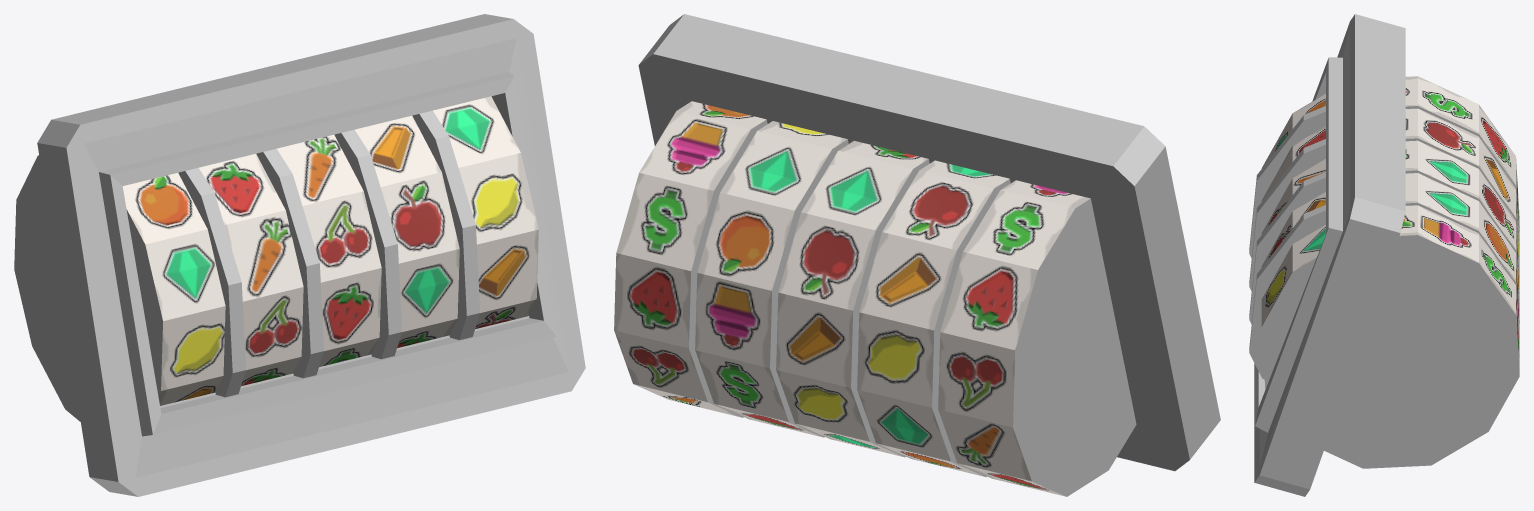
Rendered from SM_Prop_Slot_Machine_01_Cylinder_Insert_01.fbx.
The picture shows the model from 3 angles, left to right: view 1: azimuth 30°, elevation 25°; view 2: azimuth 150°, elevation 25°; view 3: azimuth 270°, elevation 25°; orthographic projection. The views are drawn at different scales.
Visible parts, largest first — view 1: SM_Prop_Slot_Machine_01_Cylinder_Insert_01, SM_Prop_Slot_Machine_01_Cylinder_01, SM_Prop_Slot_Machine_01_Cylinder_05, SM_Prop_Slot_Machine_01_Cylinder_03, SM_Prop_Slot_Machine_01_Cylinder_02, SM_Prop_Slot_Machine_01_Cylinder_04; view 2: SM_Prop_Slot_Machine_01_Cylinder_Insert_01, SM_Prop_Slot_Machine_01_Cylinder_01, SM_Prop_Slot_Machine_01_Cylinder_02, SM_Prop_Slot_Machine_01_Cylinder_03, SM_Prop_Slot_Machine_01_Cylinder_05, SM_Prop_Slot_Machine_01_Cylinder_04; view 3: SM_Prop_Slot_Machine_01_Cylinder_Insert_01, SM_Prop_Slot_Machine_01_Cylinder_05, SM_Prop_Slot_Machine_01_Cylinder_04, SM_Prop_Slot_Machine_01_Cylinder_03, SM_Prop_Slot_Machine_01_Cylinder_02, SM_Prop_Slot_Machine_01_Cylinder_01.
Part boxes in pixels (<box>): SM_Prop_Slot_Machine_01_Cylinder_Insert_01: <box>37,14,585,496</box>; SM_Prop_Slot_Machine_01_Cylinder_01: <box>14,155,225,421</box>; SM_Prop_Slot_Machine_01_Cylinder_05: <box>433,96,538,328</box>; SM_Prop_Slot_Machine_01_Cylinder_03: <box>277,134,381,366</box>; SM_Prop_Slot_Machine_01_Cylinder_02: <box>199,154,303,386</box>; SM_Prop_Slot_Machine_01_Cylinder_04: <box>355,115,459,347</box>; SM_Prop_Slot_Machine_01_Cylinder_Insert_01: <box>638,14,1220,471</box>; SM_Prop_Slot_Machine_01_Cylinder_01: <box>938,180,1136,496</box>; SM_Prop_Slot_Machine_01_Cylinder_02: <box>857,160,1010,476</box>; SM_Prop_Slot_Machine_01_Cylinder_03: <box>776,140,929,457</box>; SM_Prop_Slot_Machine_01_Cylinder_05: <box>614,101,767,417</box>; SM_Prop_Slot_Machine_01_Cylinder_04: <box>695,121,848,437</box>; SM_Prop_Slot_Machine_01_Cylinder_Insert_01: <box>1249,14,1405,496</box>; SM_Prop_Slot_Machine_01_Cylinder_05: <box>1261,205,1519,468</box>; SM_Prop_Slot_Machine_01_Cylinder_04: <box>1261,173,1519,344</box>; SM_Prop_Slot_Machine_01_Cylinder_03: <box>1261,140,1519,311</box>; SM_Prop_Slot_Machine_01_Cylinder_02: <box>1261,108,1519,279</box>; SM_Prop_Slot_Machine_01_Cylinder_01: <box>1261,76,1519,247</box>.
Bounding box in the file's own units: 69.4 × 49.13 × 40.13.
